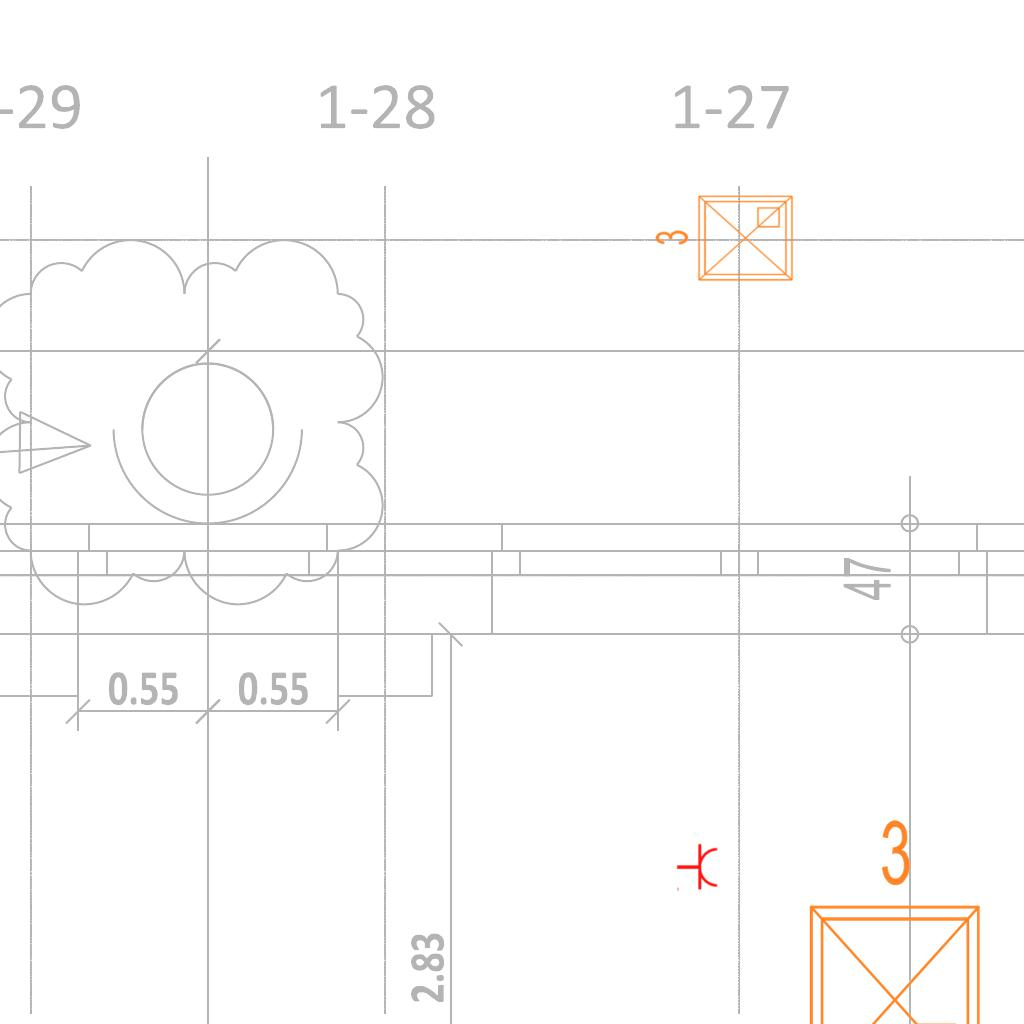Einbaudownlights_LED_Konferenzraeume: (787, 809, 995, 1024), (650, 188, 800, 292)
Schukosteckdose_einfach: (676, 843, 719, 893)
